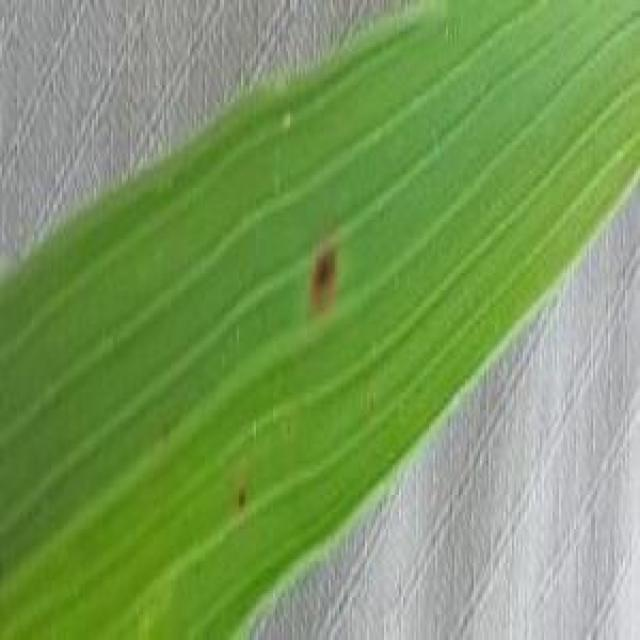Brown_Spot: (302, 240, 351, 324), (232, 482, 260, 512)
